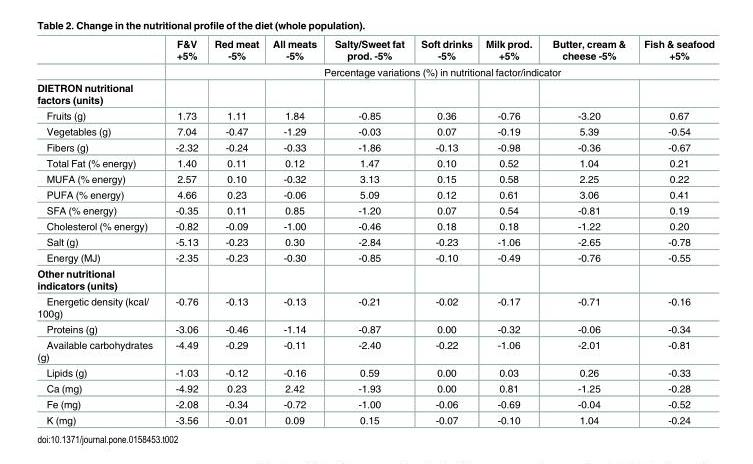table: (36, 37, 713, 425)
table column: (36, 37, 163, 425), (541, 37, 634, 425), (324, 37, 411, 425), (634, 37, 713, 425), (411, 37, 478, 425), (478, 37, 541, 425), (205, 37, 265, 425), (265, 37, 324, 425), (163, 37, 205, 425)
table column header: (36, 37, 713, 63)
table projected row header: (36, 79, 713, 107), (36, 265, 713, 292)
table row: (36, 79, 713, 107), (36, 292, 713, 320), (36, 336, 713, 364), (36, 265, 713, 292), (36, 37, 713, 63), (36, 63, 713, 79), (36, 107, 713, 123), (36, 138, 713, 154), (36, 154, 713, 170), (36, 170, 713, 186), (36, 186, 713, 202), (36, 217, 713, 233), (36, 233, 713, 249), (36, 249, 713, 265), (36, 320, 713, 336), (36, 364, 713, 380), (36, 395, 713, 411), (36, 123, 713, 138), (36, 202, 713, 217), (36, 380, 713, 395), (36, 411, 713, 425)
table spanning cell: (163, 63, 713, 79)
